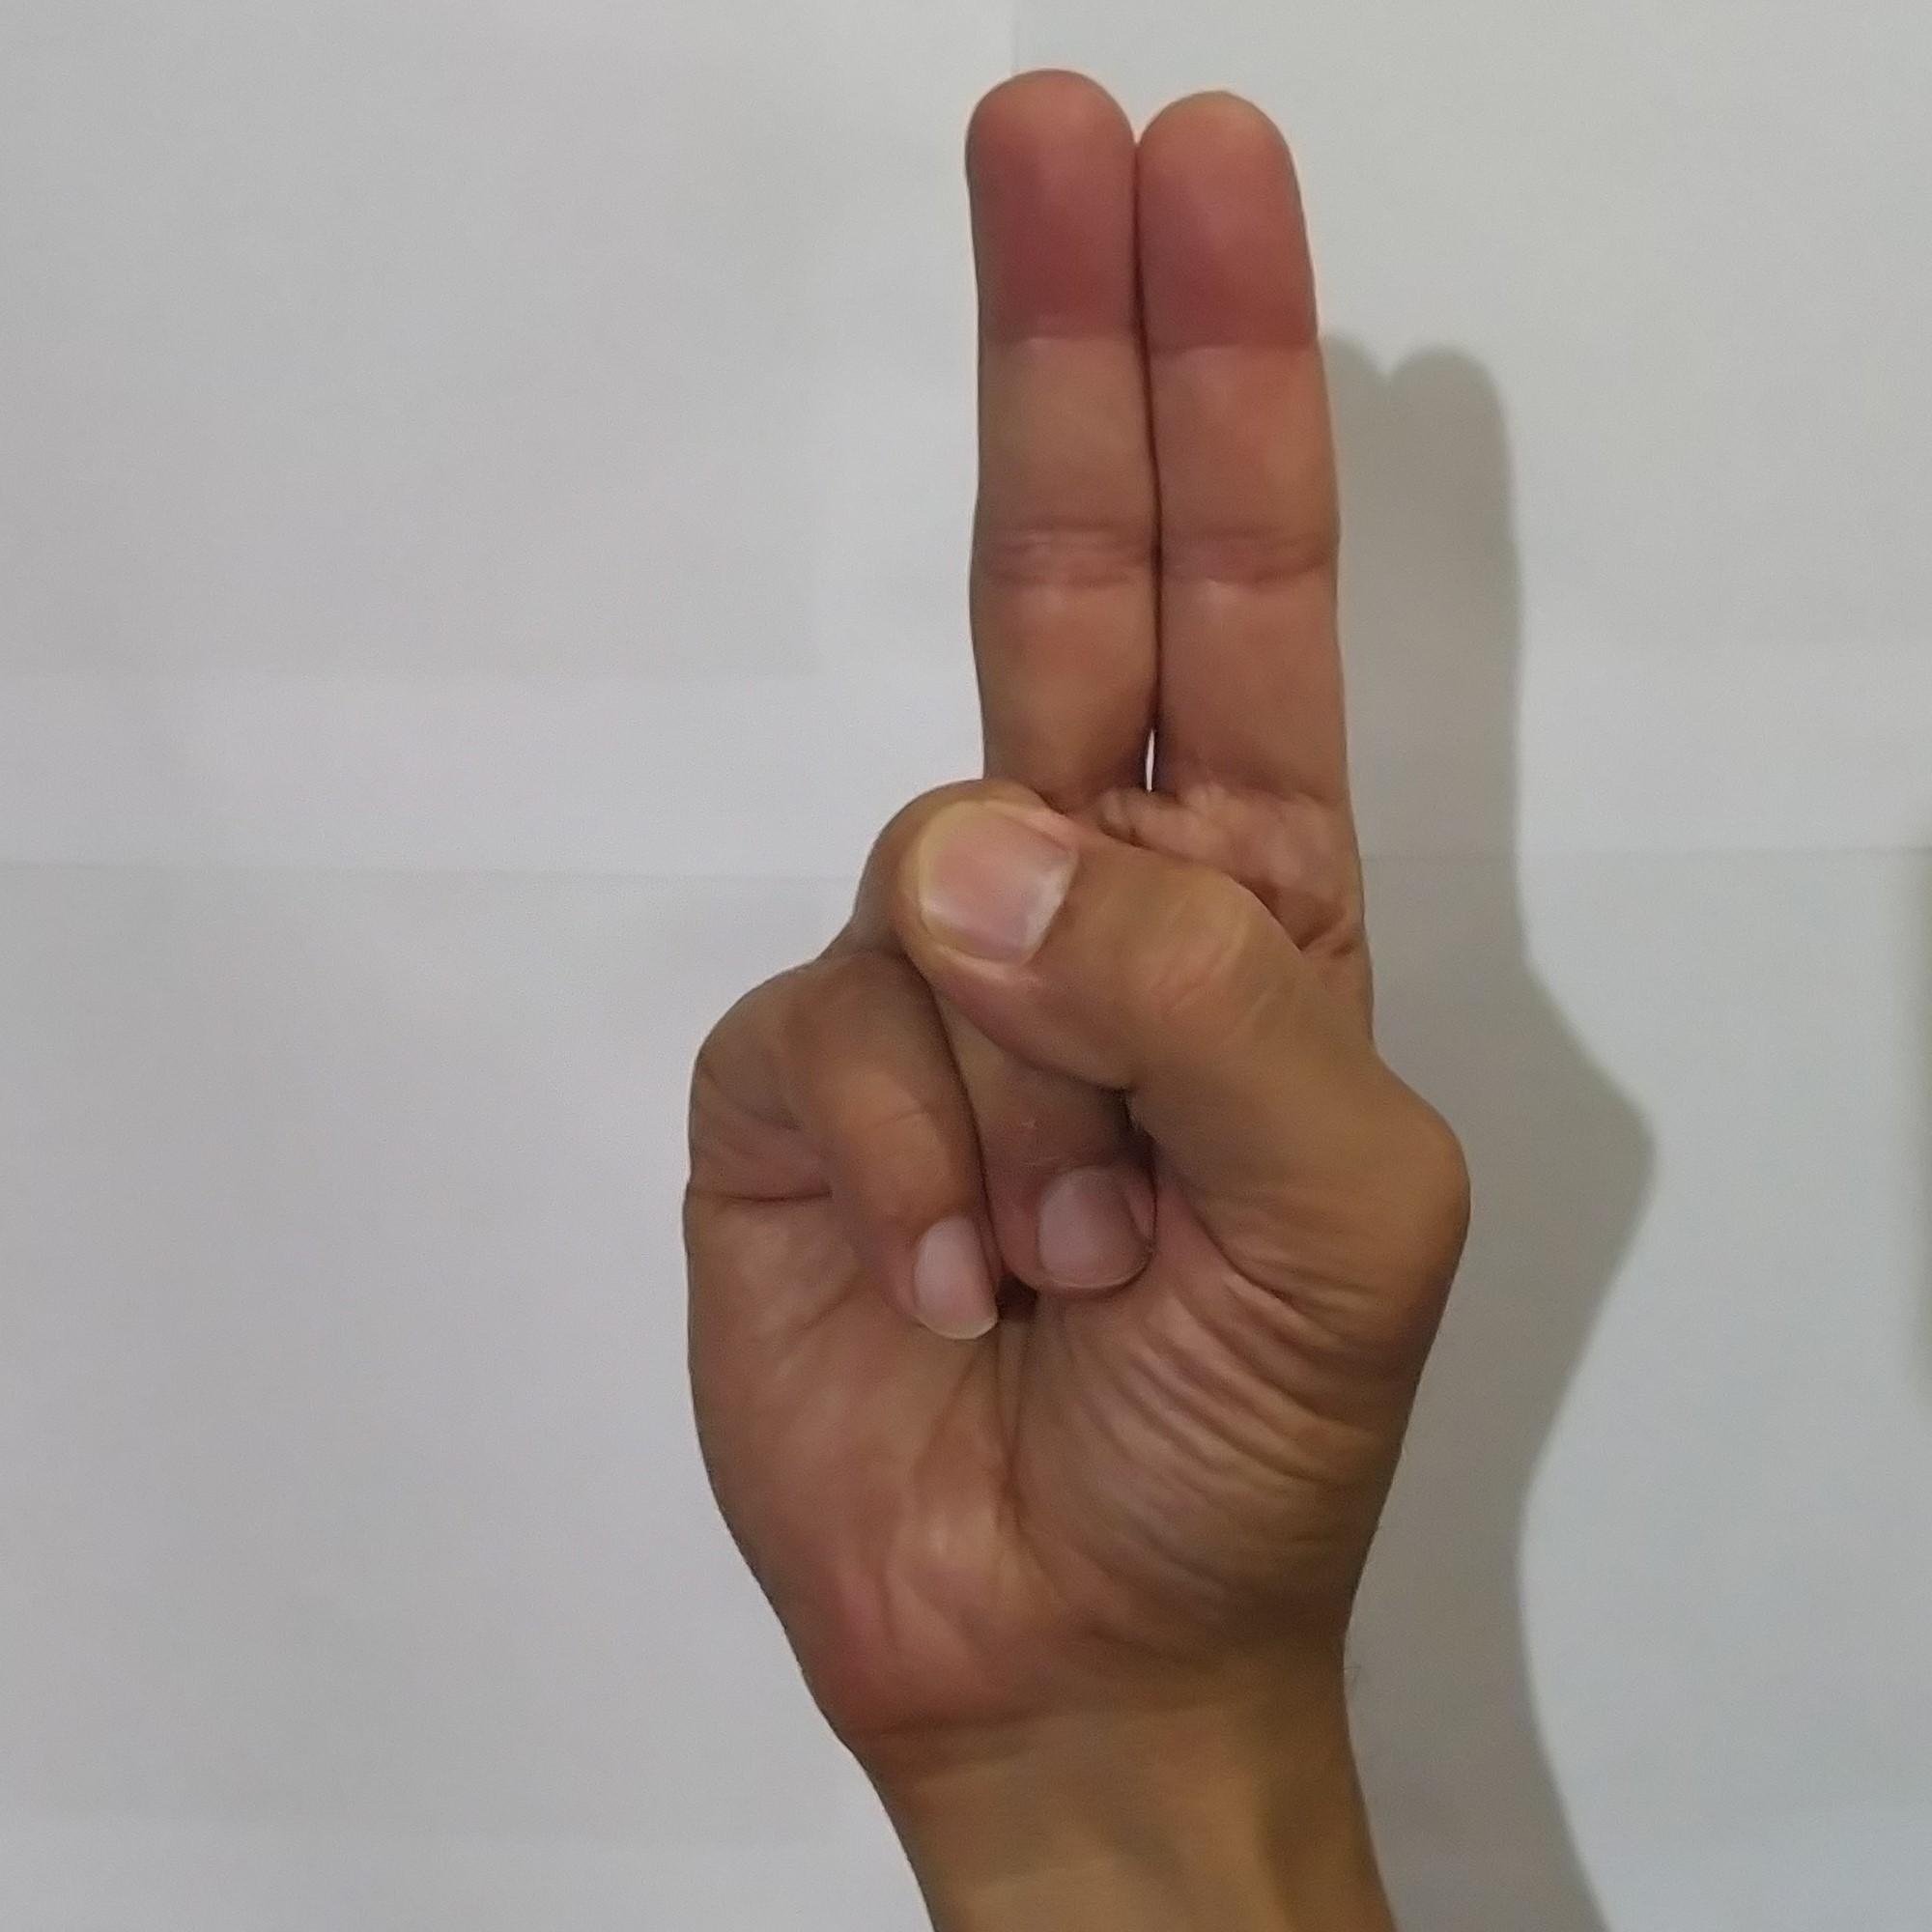U: (633, 34, 1500, 1723)
